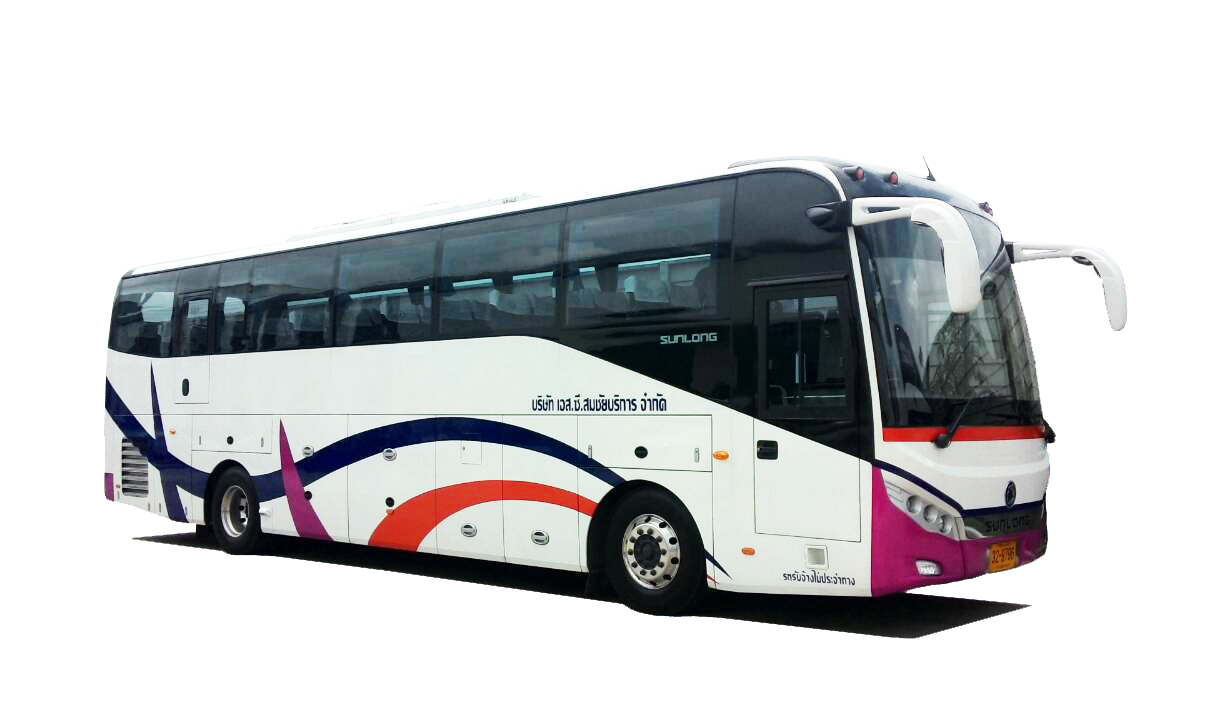bus: (102, 154, 1054, 616)
